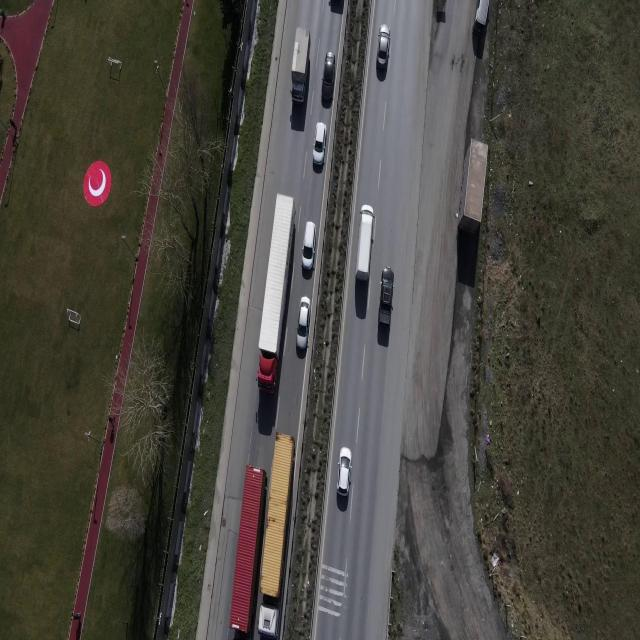p3rson: (108, 414, 116, 428), (9, 118, 17, 130), (74, 611, 82, 620)
